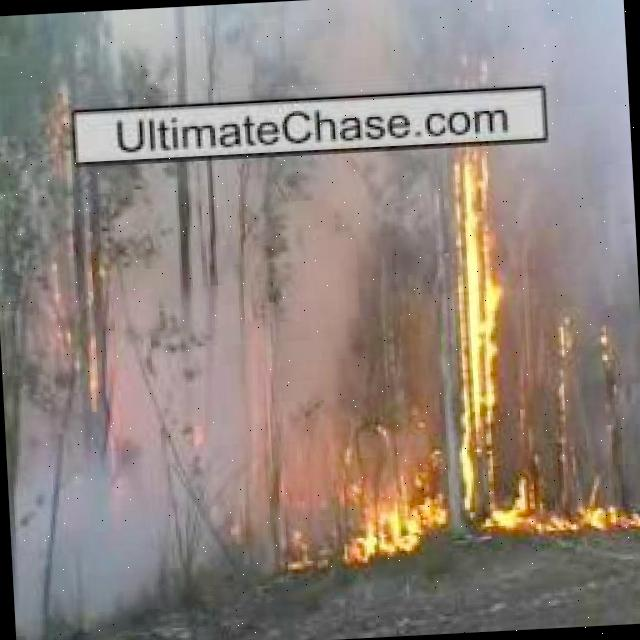fire: (436, 78, 516, 514), (48, 246, 125, 454), (328, 470, 441, 568), (498, 498, 640, 540), (548, 314, 577, 470), (41, 97, 82, 161)
